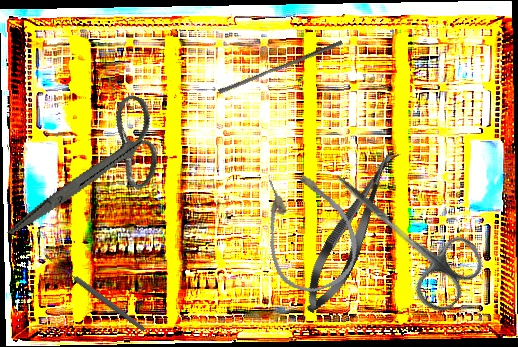Cannula: (248, 159, 368, 302)
Iris Scissors: (6, 70, 178, 274), (309, 148, 492, 320)
Micro Scissor: (294, 142, 409, 320)
Pusher: (217, 35, 344, 99)
Surgical Spoon: (43, 252, 147, 333)
